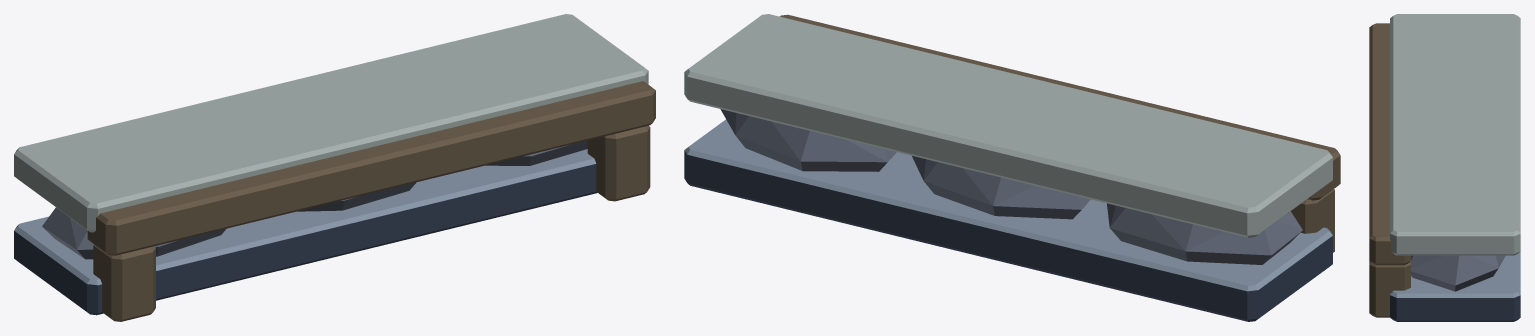
Rendered from wall-low.glb.
3 views of the same model, side by side, from view 1: azimuth 30°, elevation 25°; view 2: azimuth 150°, elevation 25°; view 3: azimuth 270°, elevation 25° (orthographic). The views are drawn at different scales.
Visible parts, largest first — view 1: wall-low__body; view 2: wall-low__body; view 3: wall-low__body.
Boxes of the visible parts, bbox=[...] form: wall-low__body: bbox=[14, 14, 655, 321]; wall-low__body: bbox=[684, 14, 1340, 321]; wall-low__body: bbox=[1369, 14, 1520, 321].
Bounding box in the file's own units: 2.01 × 0.38 × 0.58.
